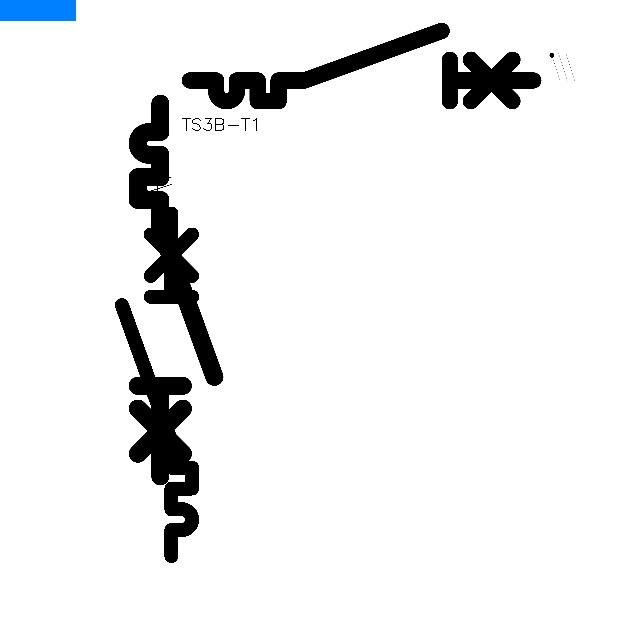interruptor_termomagnetico: (128, 94, 224, 486), (181, 22, 542, 110), (113, 204, 201, 564)
